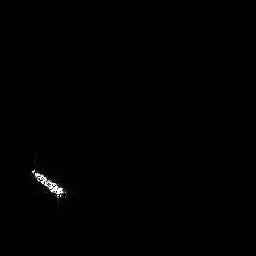ship: (31, 169, 64, 197)
